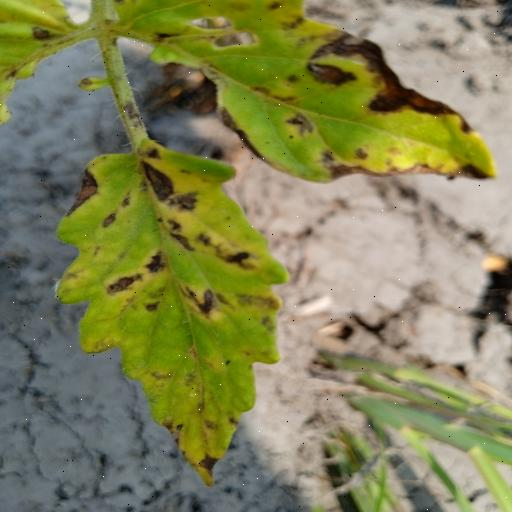Tomato_Brown_Spots: (52, 134, 296, 488), (97, 0, 500, 183)
